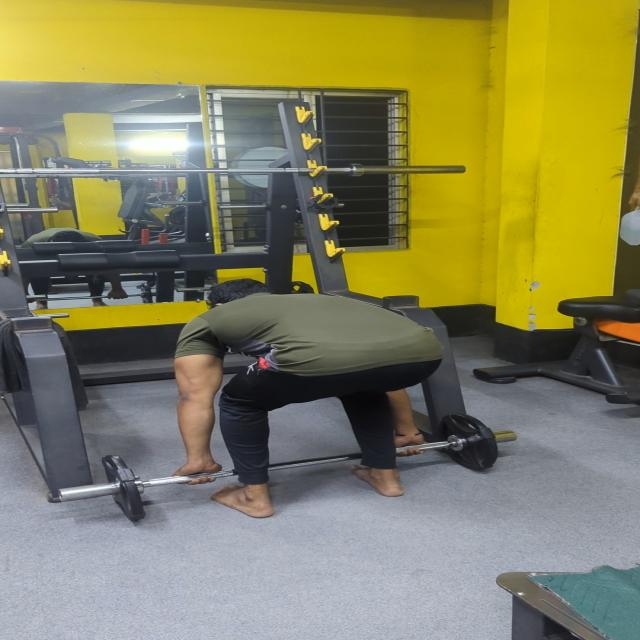Normal_Deadlifts: (124, 270, 596, 576)
